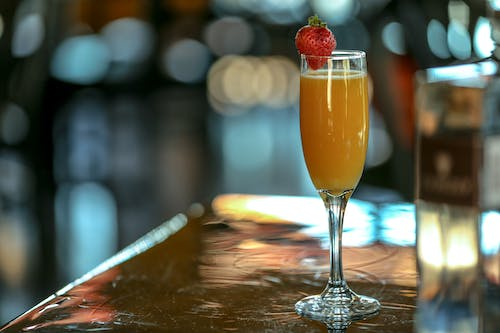alcohol: (294, 51, 383, 321)
